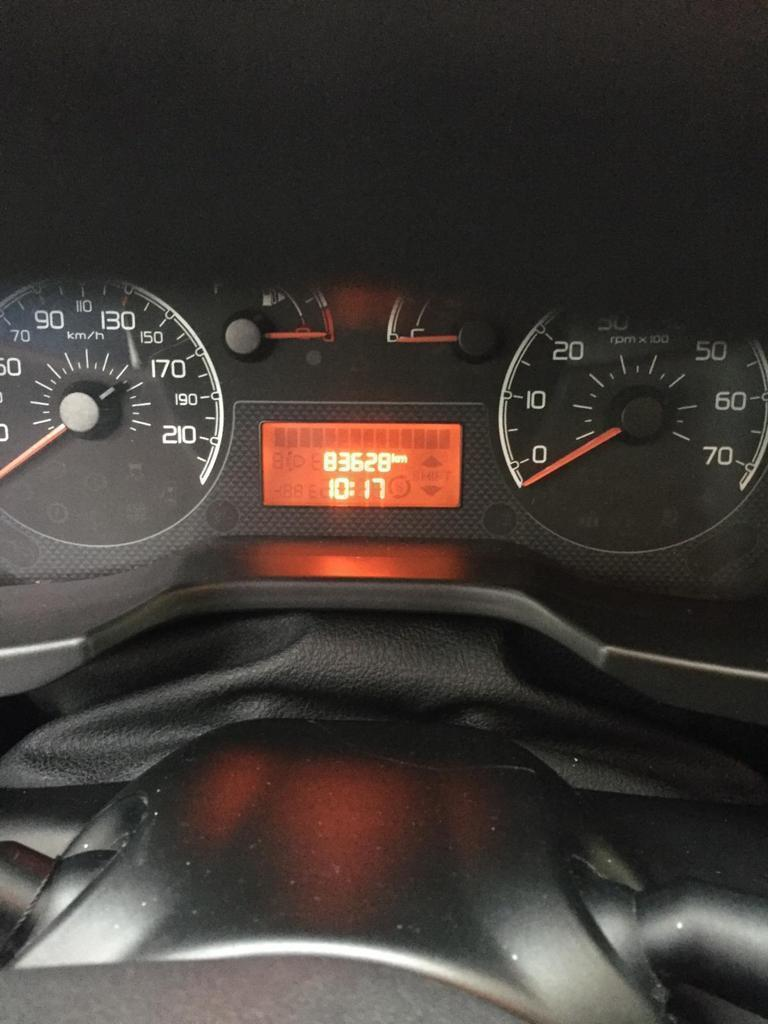0: (334, 476, 348, 500)
1: (363, 477, 371, 500), (327, 477, 333, 500)
2: (364, 450, 377, 473)
3: (337, 450, 349, 472)
6: (350, 450, 363, 472)
7: (372, 477, 386, 499)
8: (322, 449, 337, 473), (378, 451, 391, 473)
X: (349, 480, 356, 496), (397, 454, 408, 463), (391, 451, 397, 463)
odometer: (258, 418, 464, 510)
